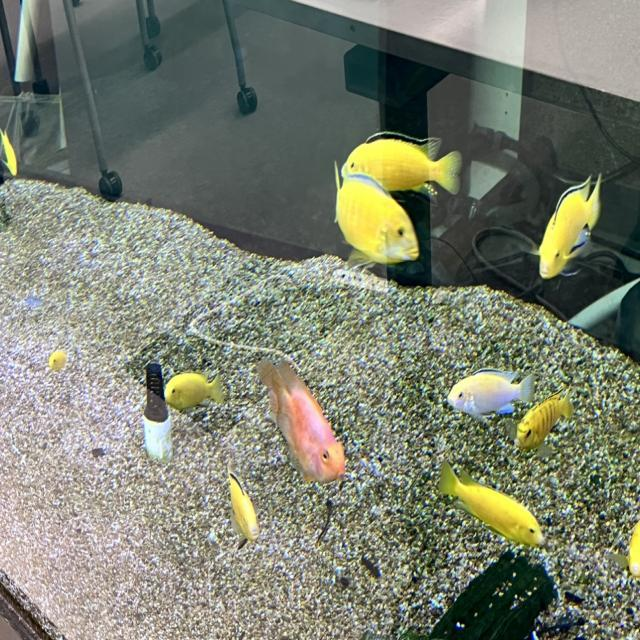YellowCichlid: (426, 449, 548, 561), (321, 193, 448, 281), (336, 118, 464, 189), (530, 167, 606, 284), (219, 466, 279, 551), (512, 388, 582, 442), (157, 362, 235, 410), (0, 122, 42, 186), (44, 344, 86, 394), (619, 501, 640, 587)
